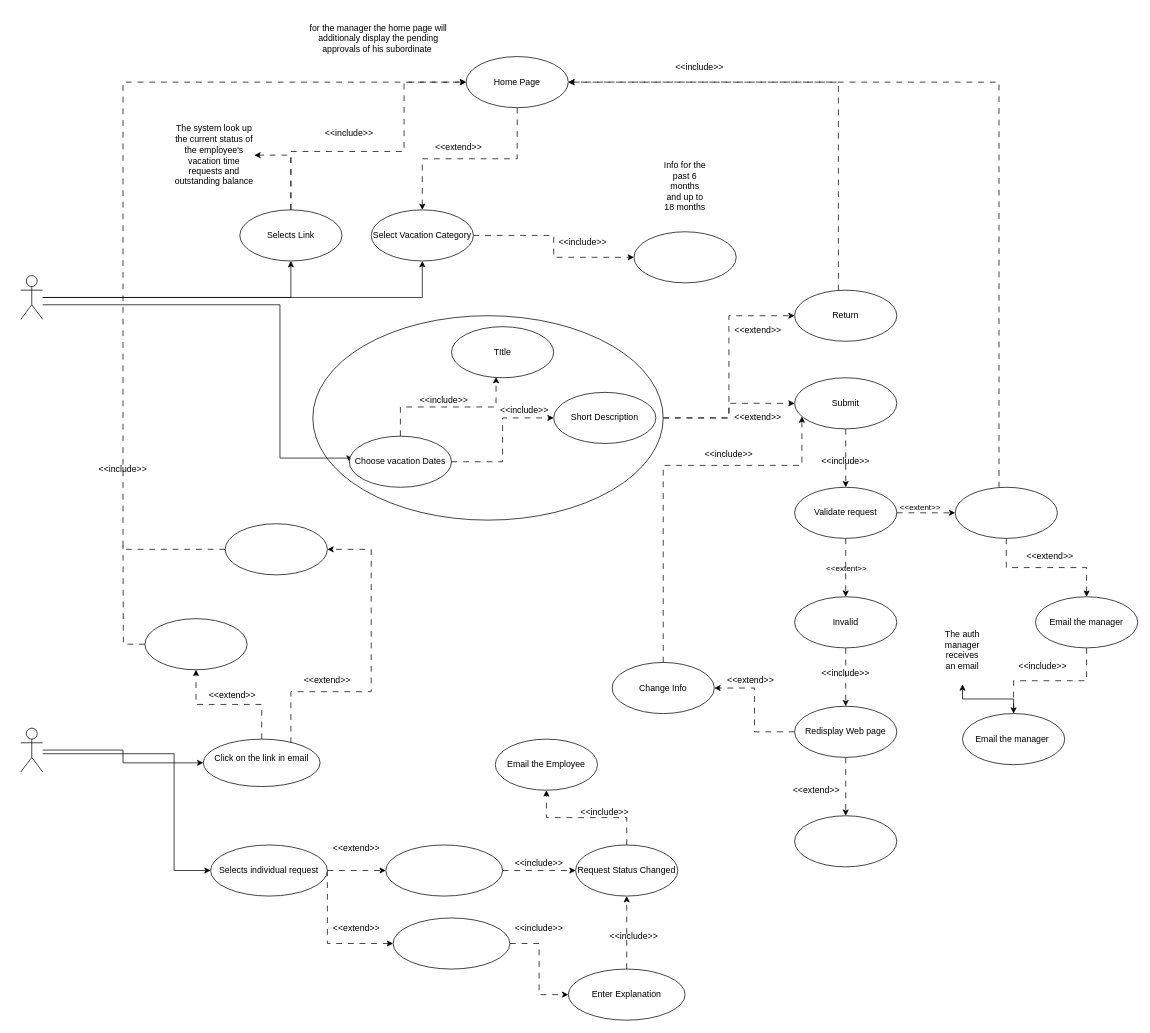
The diagram is 1150 pixels wide and 1033 high, and some of its shapes have lost their labels. Each missing label, with the centre of its shape:
Approve: the point at 444,870
Cancel Request: the point at 845,841
Employee: the point at 31,297
Info Displayed: the point at 684,257
Login: the point at 195,644
login to internal portal: the point at 275,549
Manager: the point at 31,749
Reject: the point at 451,943
Valid: the point at 1005,512
